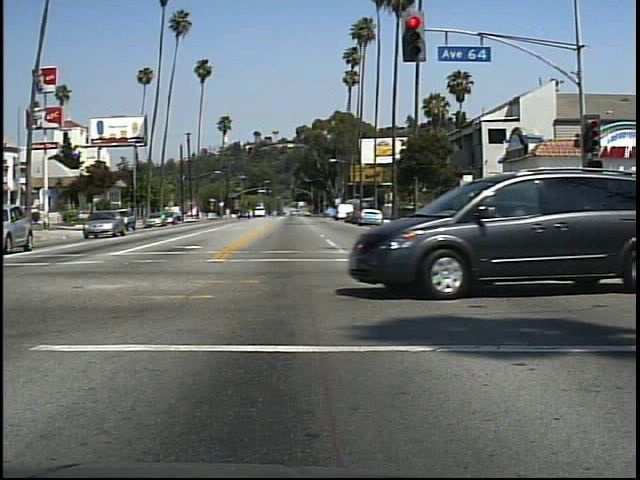person: (532, 194, 559, 247)
